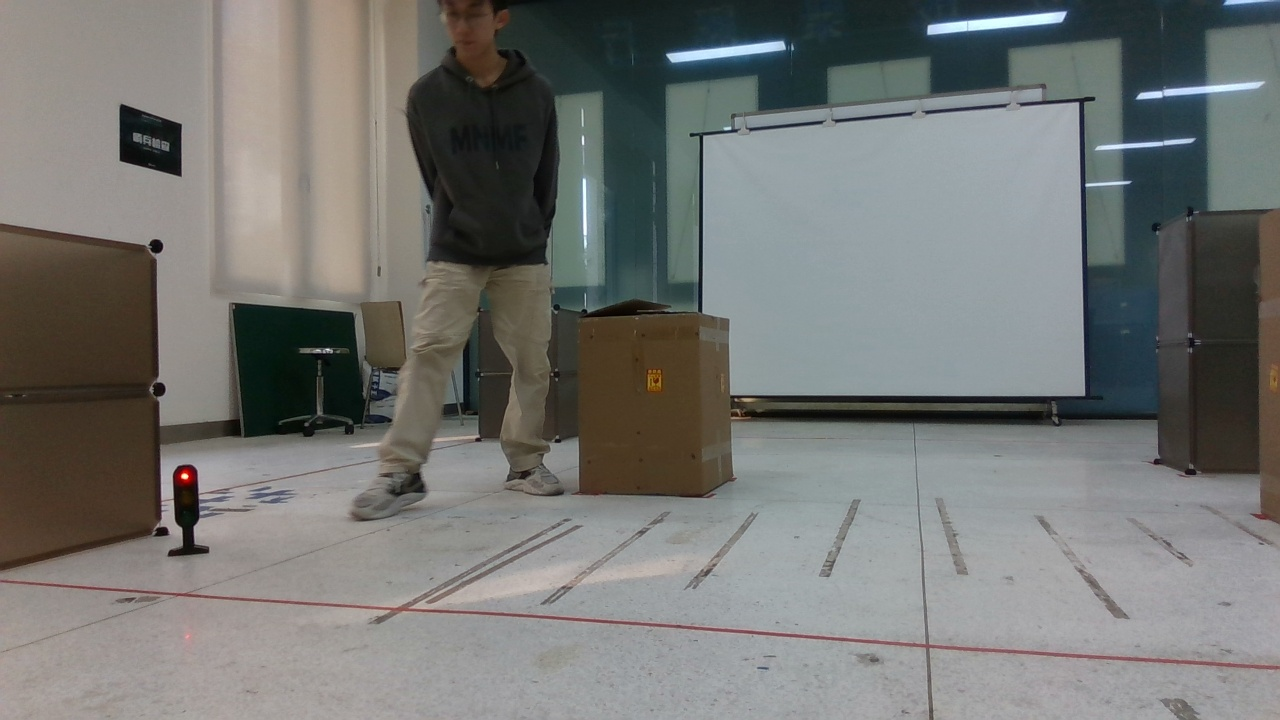red_light: (156, 457, 220, 566)
